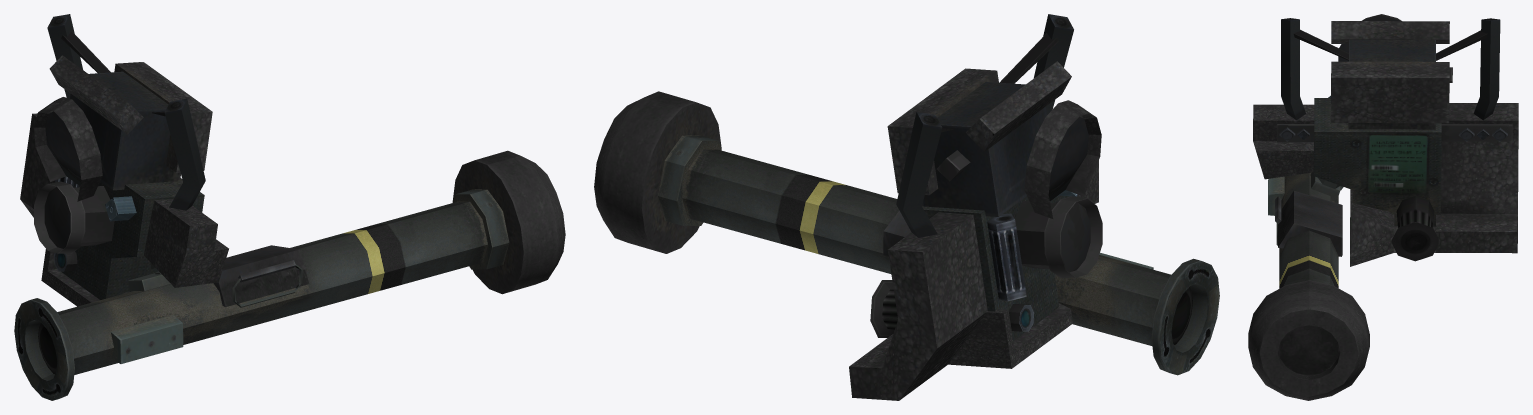
File: RocketLauncher01.fbx
3 views of the same model, side by side, from view 1: azimuth 30°, elevation 25°; view 2: azimuth 150°, elevation 25°; view 3: azimuth 270°, elevation 25° (orthographic). The views are drawn at different scales.
Parts seen in each view (by area): view 1: 4f6d7ae0.obj; view 2: 4f6d7ae0.obj; view 3: 4f6d7ae0.obj.
Part boxes in pixels (left/top/right/bottom): 4f6d7ae0.obj: left=14, top=14, right=565, bottom=400; 4f6d7ae0.obj: left=594, top=14, right=1219, bottom=400; 4f6d7ae0.obj: left=1248, top=14, right=1518, bottom=400.
Size of the model in its own units: 220 by 116 by 120.
1 material, 1 textured.
